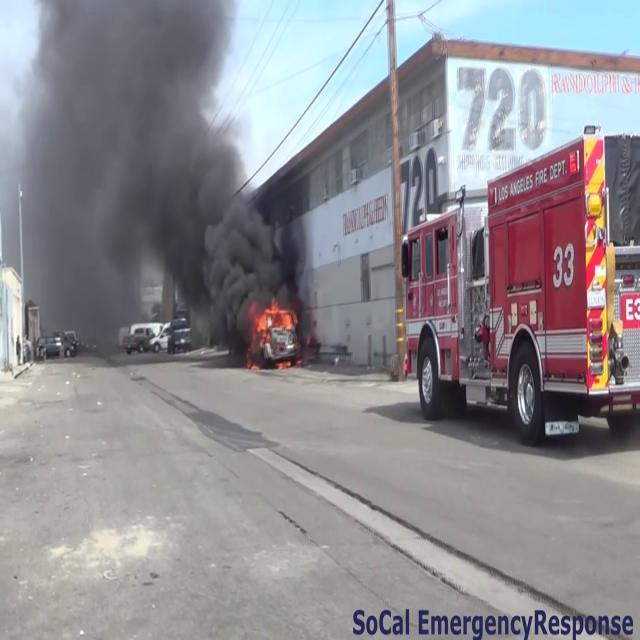Fire: (250, 296, 302, 346)
Smoke: (1, 0, 316, 342)
